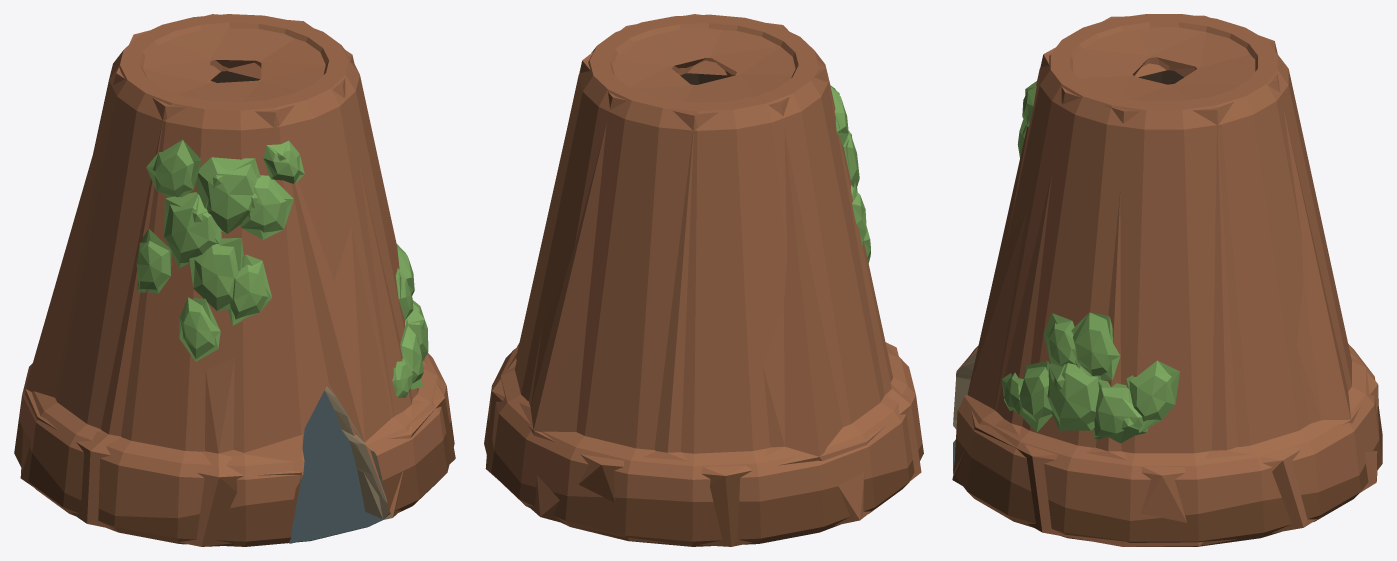
Rendered from pf_pot_house.glb.
3 views of the same model, side by side, from view 1: azimuth 30°, elevation 25°; view 2: azimuth 150°, elevation 25°; view 3: azimuth 270°, elevation 25° (orthographic).
Parts seen in each view (by area): view 1: body, body__far; view 2: body, body__far; view 3: body, body__far.
Part boxes in pixels (x1,y1,x2,y2): body: (14,14,454,546); body__far: (20,14,455,546); body: (484,14,923,546); body__far: (485,14,921,546); body: (953,14,1382,546); body__far: (952,15,1378,546).
Size of the model in its own units: 2 by 2 by 1.97.
